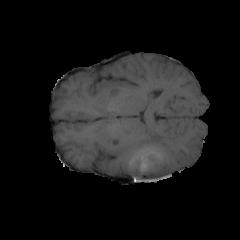glioma: (115, 134, 175, 181)
